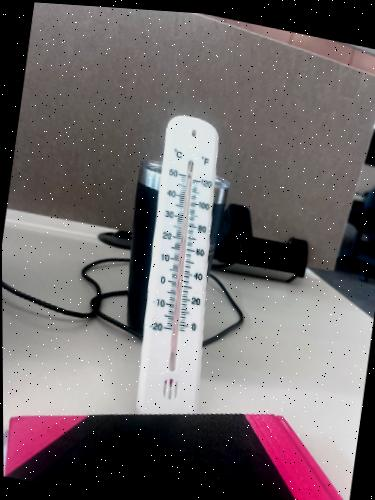thermo: (137, 113, 228, 421)
